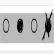correct: (16, 16, 24, 35)
no answer: (2, 17, 10, 35), (31, 16, 38, 35)
not correct: (42, 8, 54, 42)
